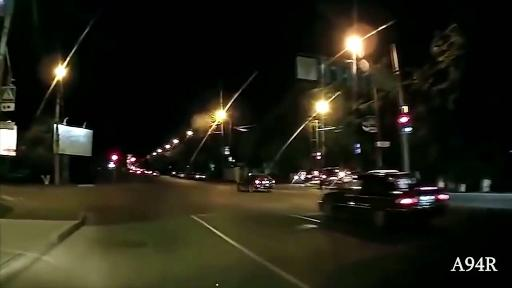CAR: (303, 149, 467, 246), (232, 149, 283, 207)
